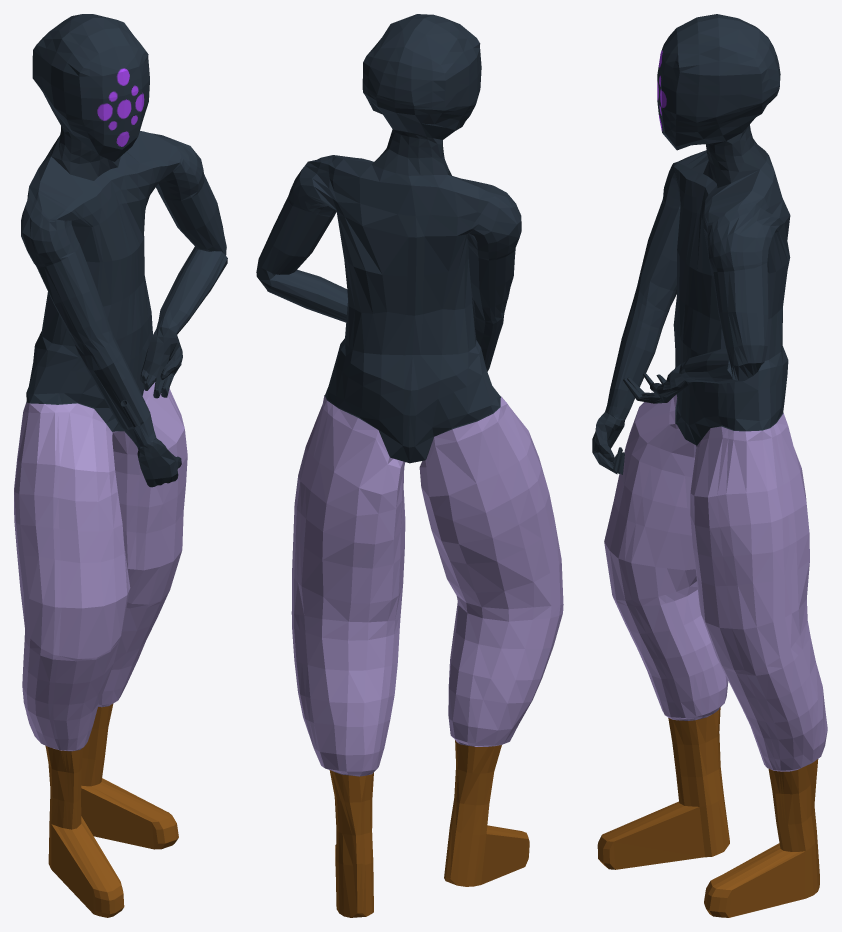
Rendered from Oracle_WR_000002.obj.
The picture shows the model from 3 angles, left to right: view 1: azimuth 30°, elevation 25°; view 2: azimuth 150°, elevation 25°; view 3: azimuth 270°, elevation 25°; orthographic projection. The views are drawn at different scales.
Parts seen in each view (by area): view 1: Cube; view 2: Cube; view 3: Cube.
Part boxes in pixels (<box>): Cube: <box>14,14,227,917</box>; Cube: <box>256,14,563,917</box>; Cube: <box>592,14,827,917</box>.
Size of the model in its own units: 1.17 by 3.93 by 0.9692.
